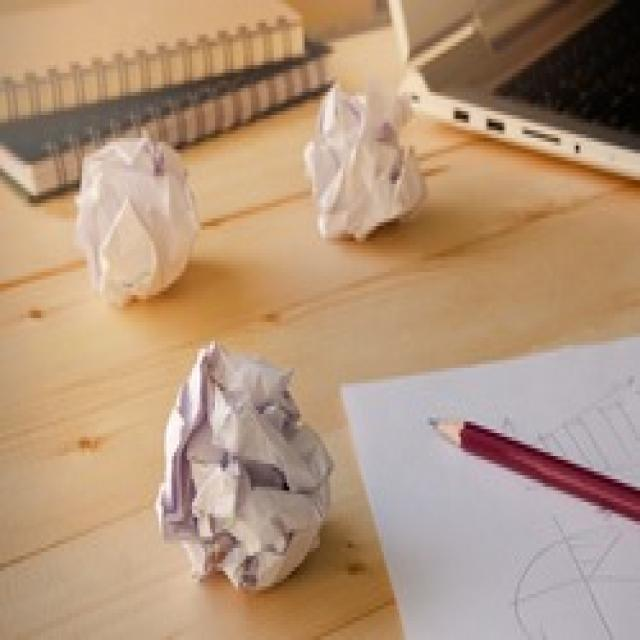Paper: (154, 345, 335, 594), (74, 134, 200, 310), (302, 84, 428, 245)
